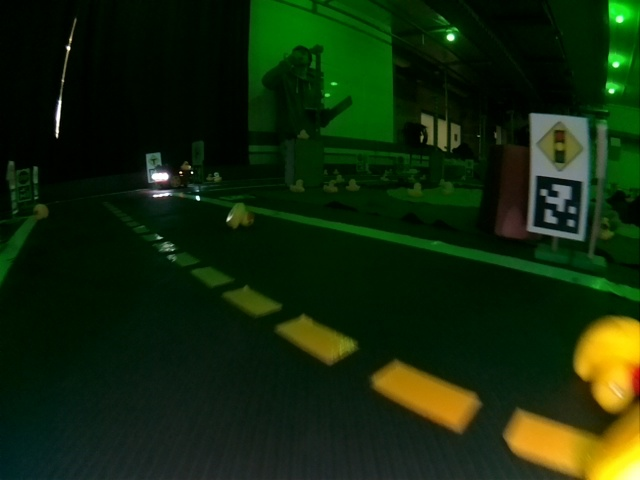Duckie: (574, 315, 639, 411), (226, 202, 252, 226), (290, 179, 306, 192), (346, 179, 360, 192), (408, 183, 423, 195), (323, 180, 336, 190), (182, 161, 191, 170), (297, 130, 306, 139), (214, 172, 222, 182)
Intersection sign: (147, 153, 161, 166)
QR code: (533, 175, 584, 236), (17, 186, 30, 201)
Signal sign: (534, 119, 584, 168)
Stop sign: (17, 170, 29, 184)
